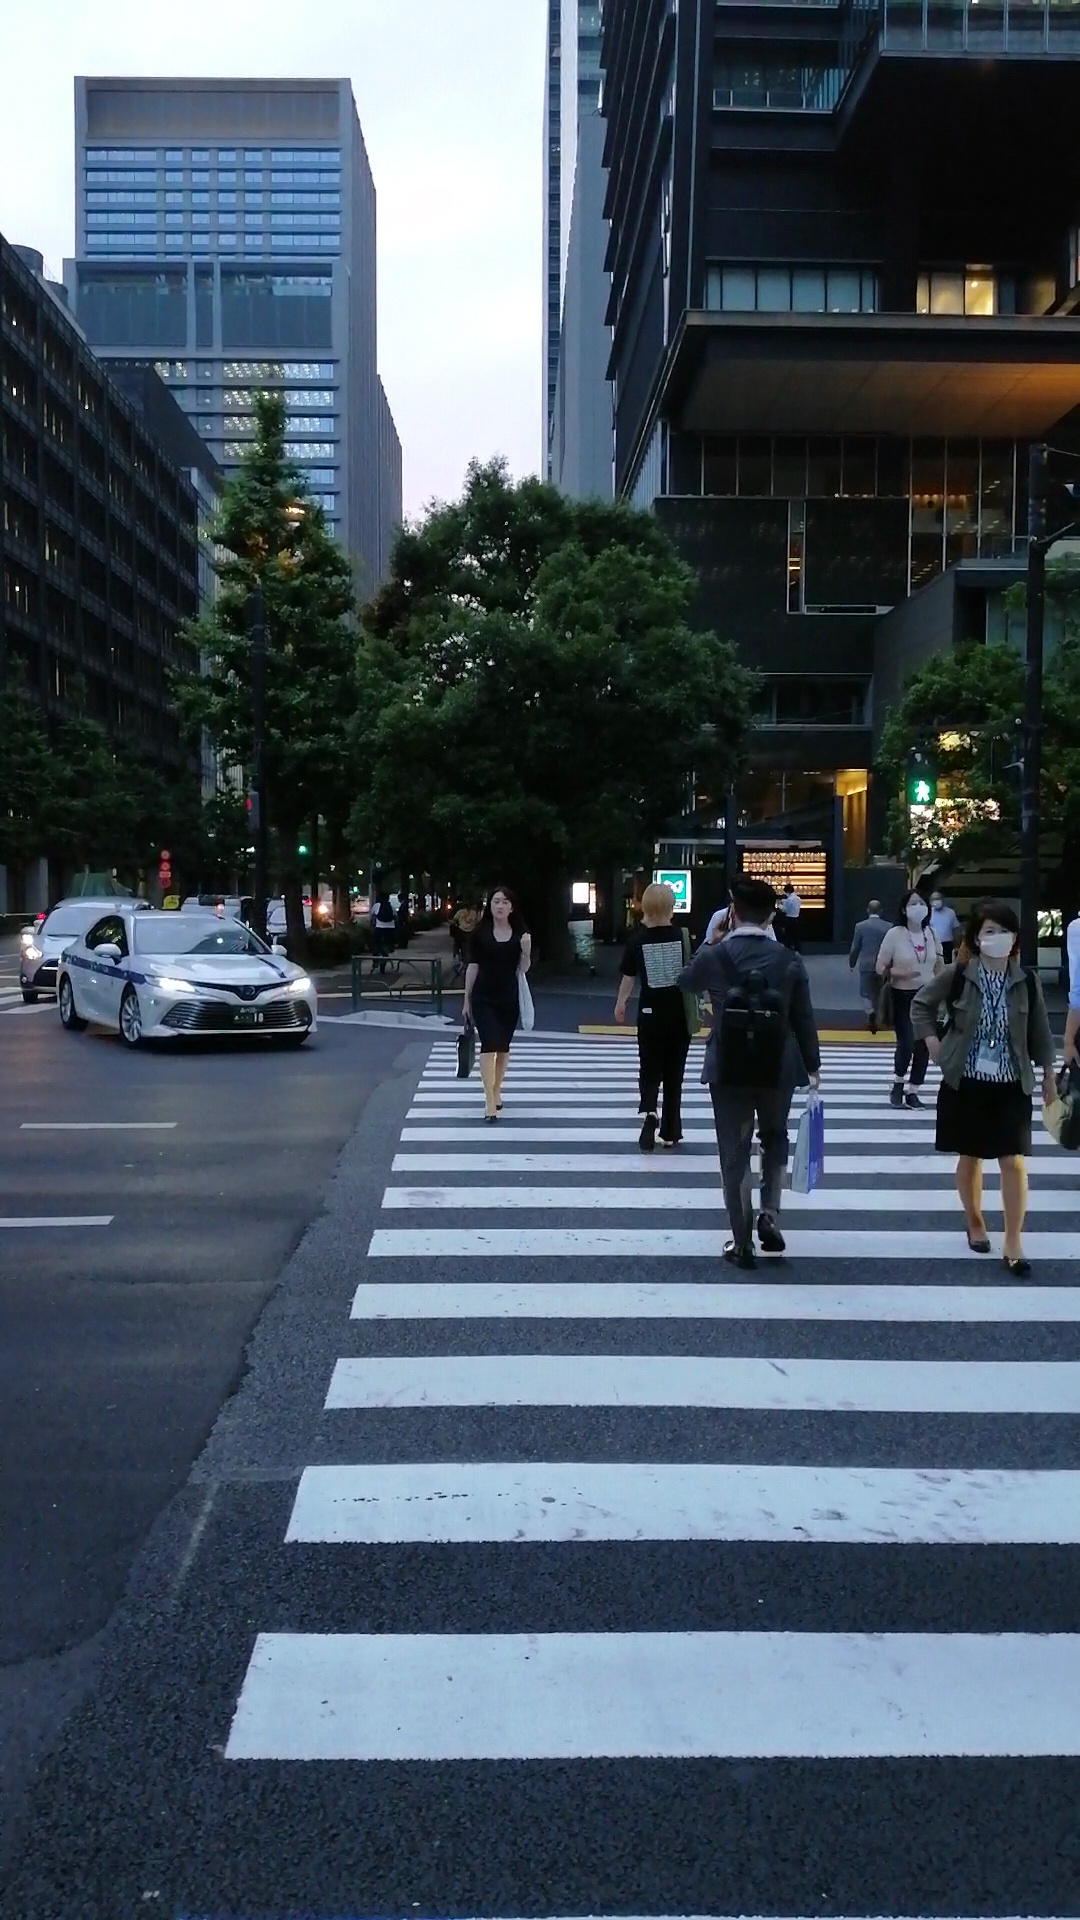green: (906, 744, 939, 806)
